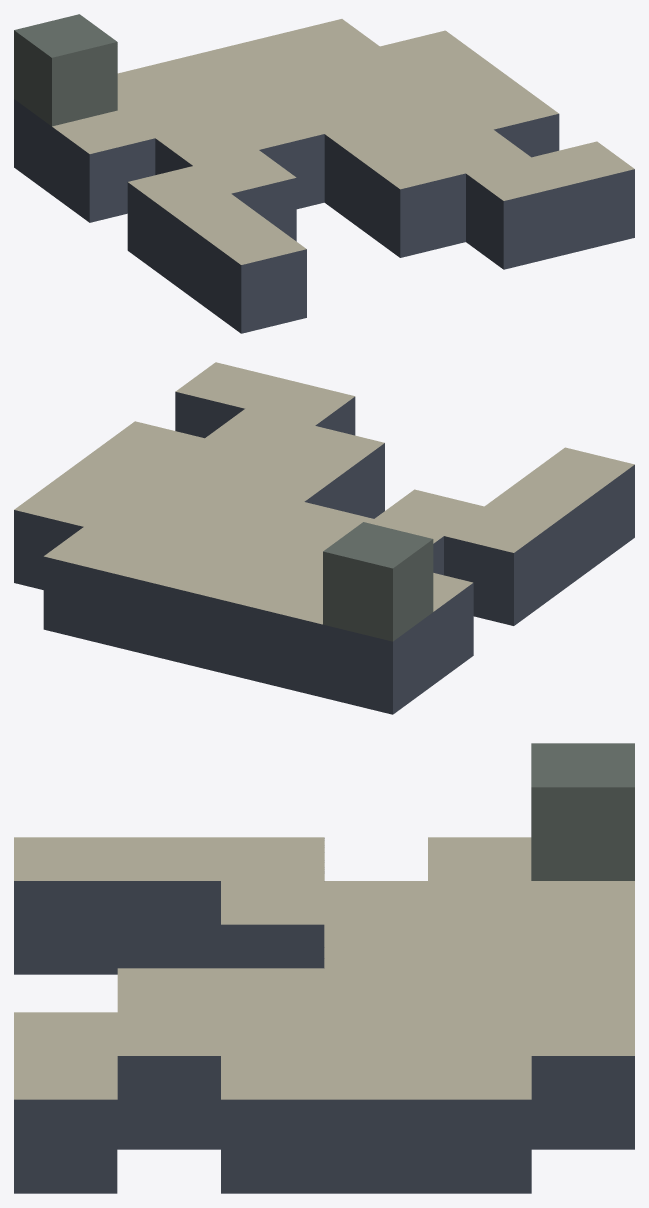
3 views of the same model, one above another, from view 1: azimuth 30°, elevation 25°; view 2: azimuth 150°, elevation 25°; view 3: azimuth 270°, elevation 25° (orthographic). The views are drawn at different scales.
Visible parts, largest first — view 1: 3.3; view 2: 3.3; view 3: 3.3.
Part boxes in pixels (x1,y1,x2,y2): 3.3: (14, 14, 634, 333); 3.3: (14, 362, 634, 714); 3.3: (14, 743, 634, 1193).
Size of the model in its own units: 600 by 200 by 600.
